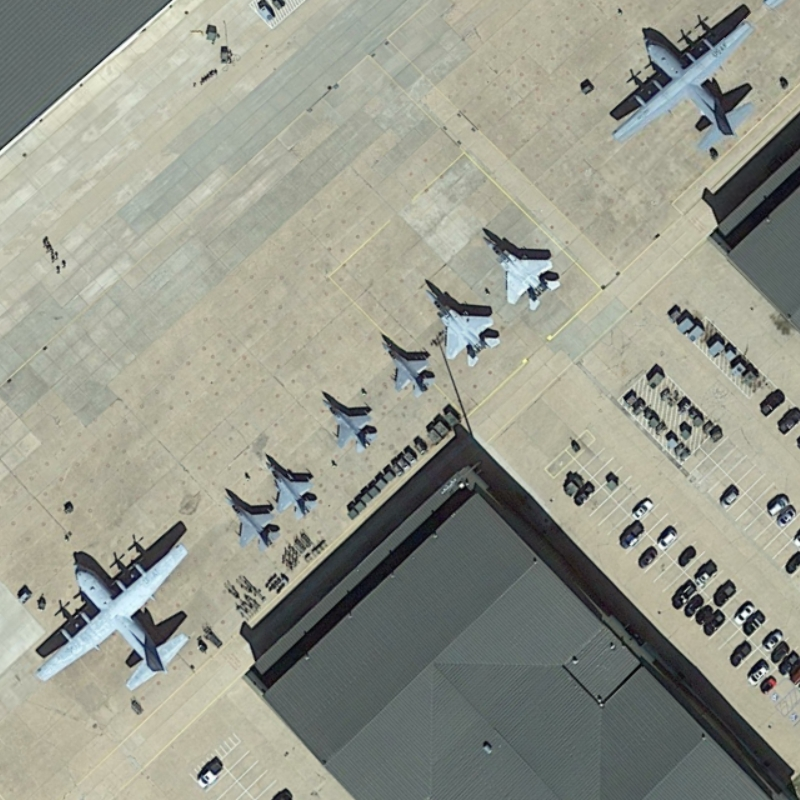A13: (415, 273, 511, 373), (476, 225, 572, 318)
A2: (25, 533, 204, 700), (605, 14, 769, 158)
A5: (317, 380, 384, 463), (255, 448, 326, 523), (216, 482, 282, 556), (373, 328, 435, 402)
